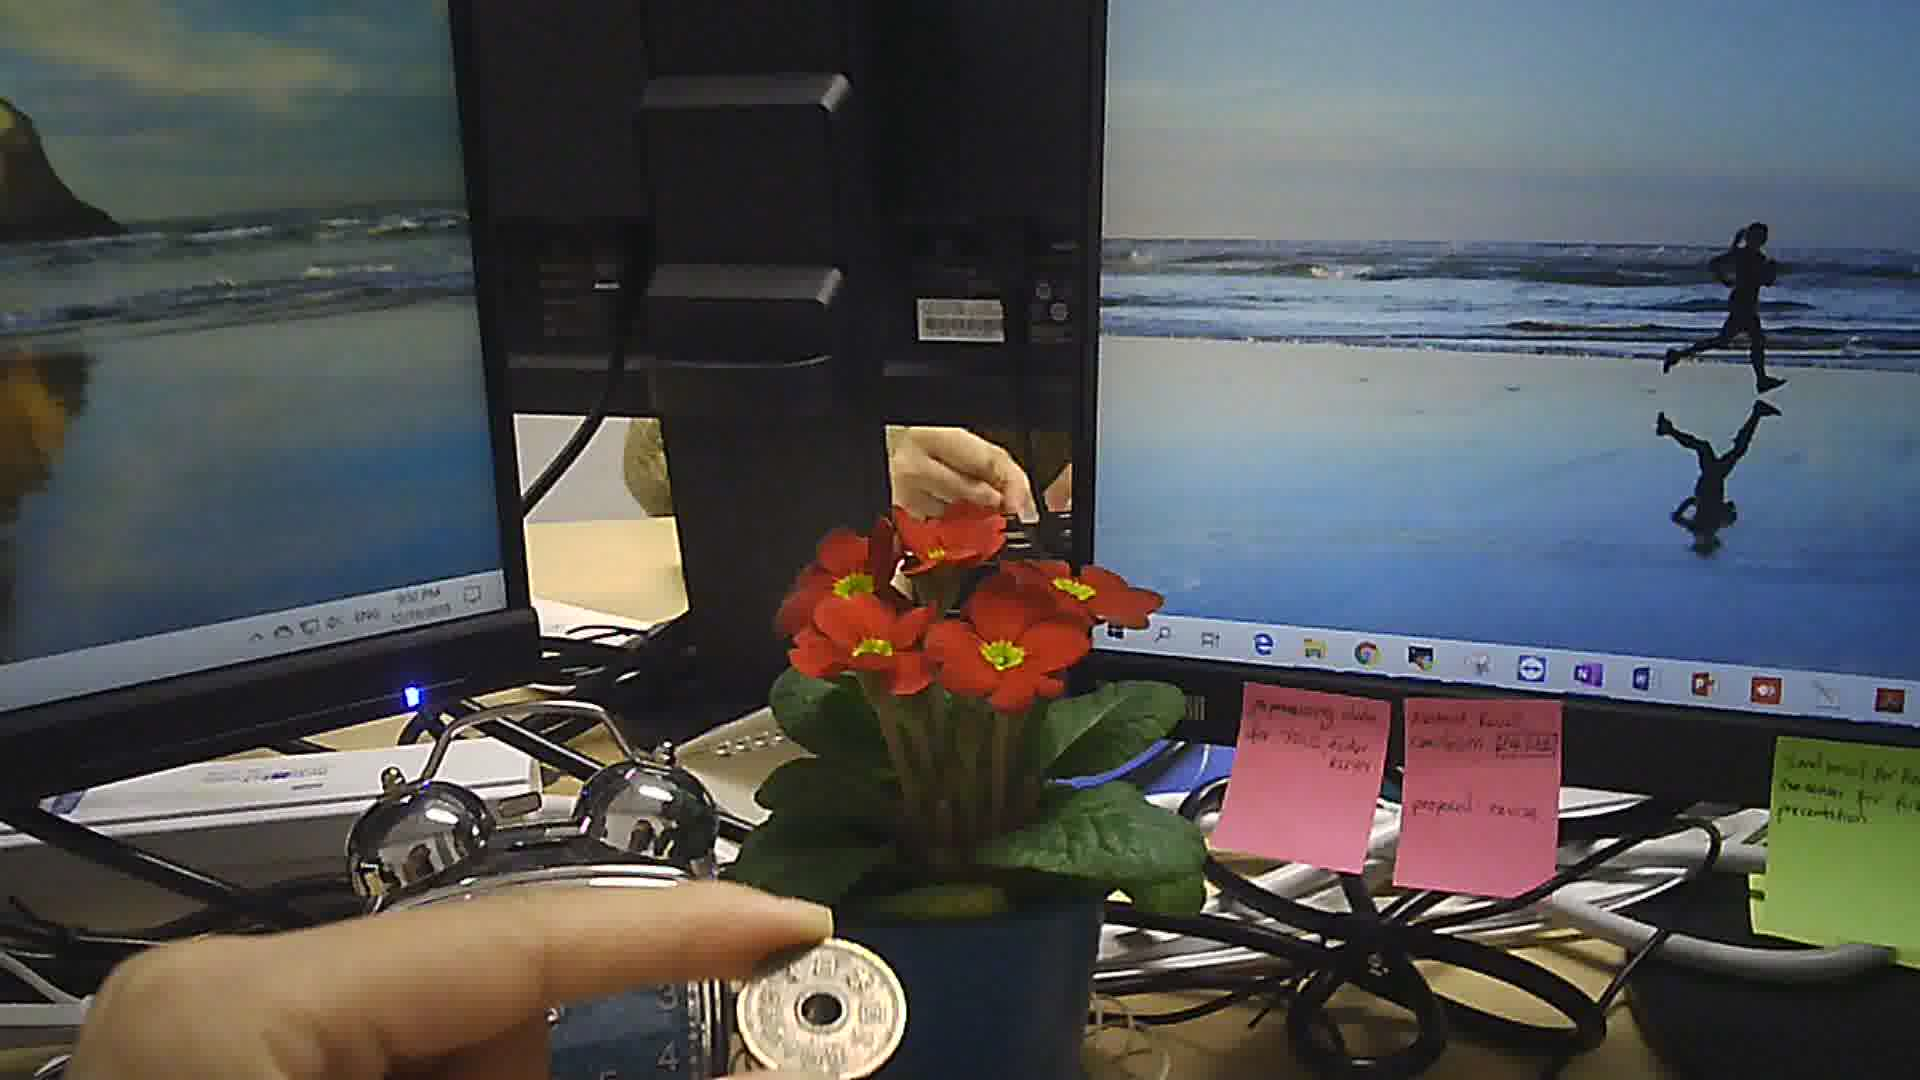5 Yen: (727, 936, 916, 1079)
